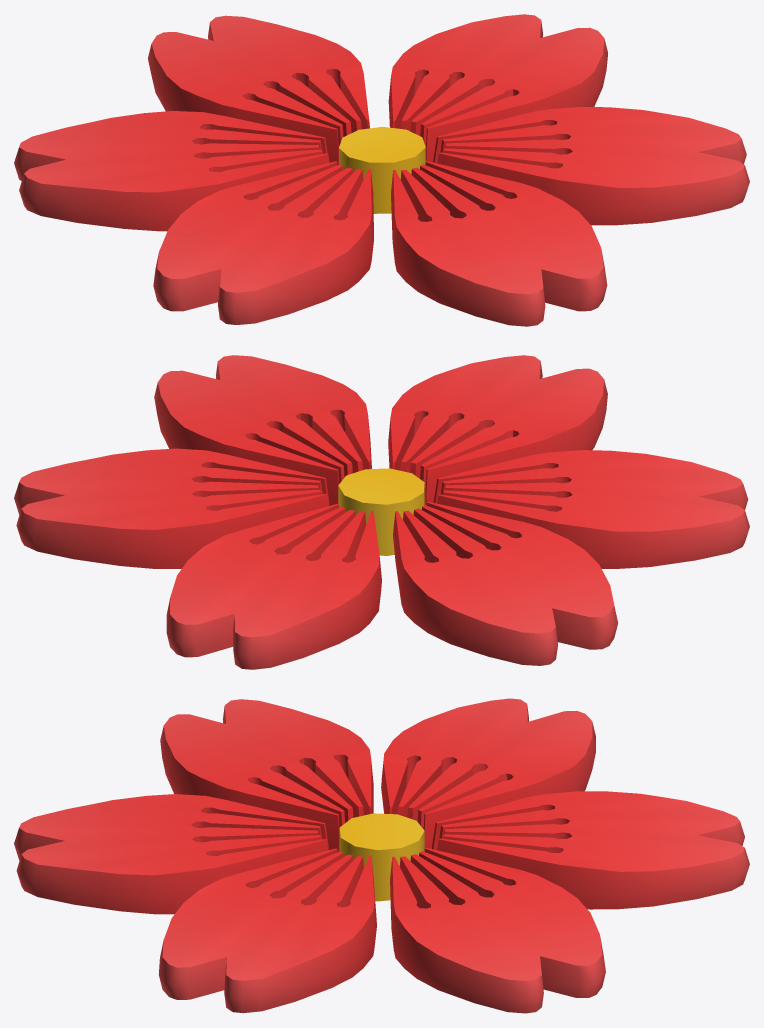
File: red.fbx
3 renders of one model, top to bottom at view 1: azimuth 30°, elevation 25°; view 2: azimuth 150°, elevation 25°; view 3: azimuth 270°, elevation 25°, orthographic.
Visible parts, largest first — view 1: Cylinder004.011; view 2: Cylinder004.011; view 3: Cylinder004.011.
Boxes of the visible parts, <box> form: Cylinder004.011: <box>14,14,749,326</box>; Cylinder004.011: <box>14,355,749,669</box>; Cylinder004.011: <box>14,698,749,1013</box>.
Bounding box in the file's own units: 29.68 × 2.47 × 32.19.
